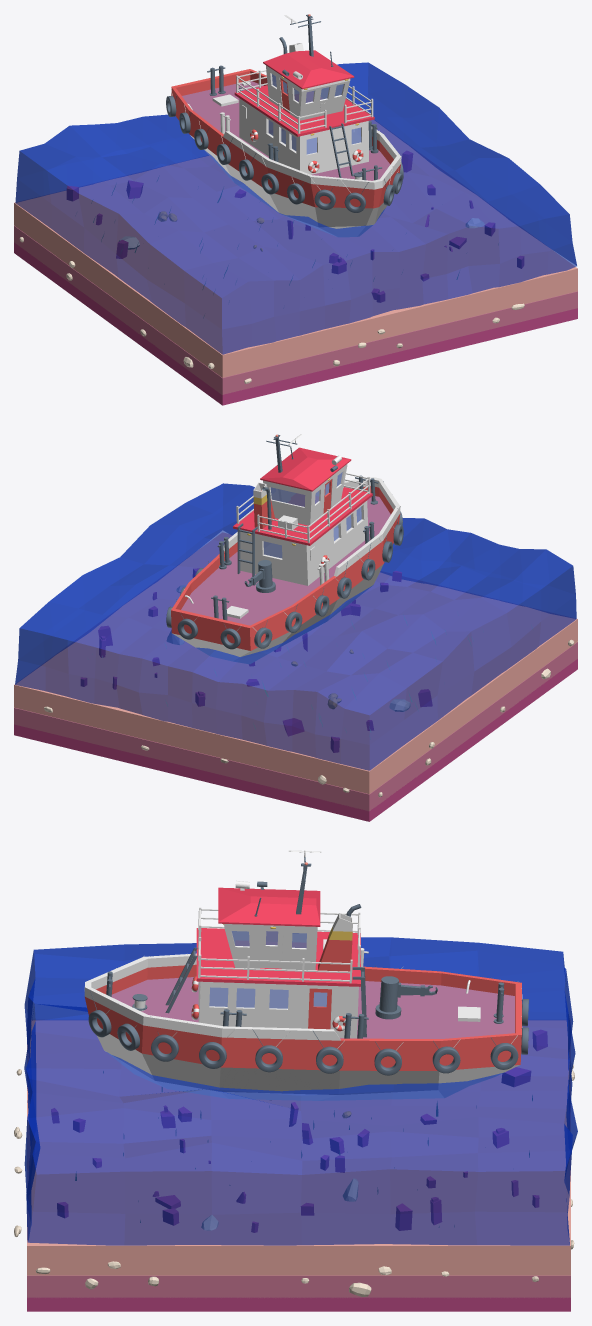
The picture shows the model from 3 angles, top to bottom: view 1: azimuth 30°, elevation 25°; view 2: azimuth 150°, elevation 25°; view 3: azimuth 270°, elevation 25°; orthographic projection. The views are drawn at different scales.
Visible parts, largest first — view 1: Water, Cube_2_2, Body, Cube_1_2, Cube_2, Floor_1, Floor_2, Cube_2_4, Roof, Stones_2; view 2: Water, Cube_2_2, Body, Cube_1_2, Cube_2, Floor_1, Floor_2, Roof, Cube_2_4, Stones_2, Pipe_Big; view 3: Water, Cube_2_2, Body, Cube_1_2, Cube_2, Floor_1, Cube_2_4, Floor_2, Roof, Stones_2, Pipe_Big, Cylinder_5.
Boxes of the visible parts, <box> form: Water: <box>15,62,576,354</box>; Cube_2_2: <box>14,120,577,377</box>; Body: <box>171,69,401,236</box>; Cube_1_2: <box>14,225,577,394</box>; Cube_2: <box>14,242,577,405</box>; Floor_1: <box>239,98,368,174</box>; Floor_2: <box>266,65,350,120</box>; Cube_2_4: <box>234,85,374,136</box>; Roof: <box>263,50,354,89</box>; Stones_2: <box>19,218,524,383</box>; Water: <box>15,483,576,770</box>; Cube_2_2: <box>14,532,577,794</box>; Body: <box>171,477,400,663</box>; Cube_1_2: <box>14,642,577,811</box>; Cube_2: <box>14,659,577,821</box>; Floor_1: <box>240,500,367,585</box>; Floor_2: <box>263,464,347,525</box>; Roof: <box>260,447,351,491</box>; Cube_2_4: <box>233,487,372,545</box>; Stones_2: <box>44,585,574,797</box>; Pipe_Big: <box>253,482,274,528</box>; Water: <box>24,937,577,1245</box>; Cube_2_2: <box>27,1020,570,1275</box>; Body: <box>84,953,521,1100</box>; Cube_1_2: <box>27,1275,570,1298</box>; Cube_2: <box>27,1297,570,1311</box>; Floor_1: <box>198,981,358,1038</box>; Cube_2_4: <box>196,928,360,986</box>; Floor_2: <box>224,924,317,970</box>; Roof: <box>218,887,320,926</box>; Stones_2: <box>14,1064,574,1296</box>; Pipe_Big: <box>318,912,352,971</box>; Cylinder_5: <box>379,976,398,1012</box>.
Size of the model in its own units: 0.289 by 0.2011 by 0.2963.
